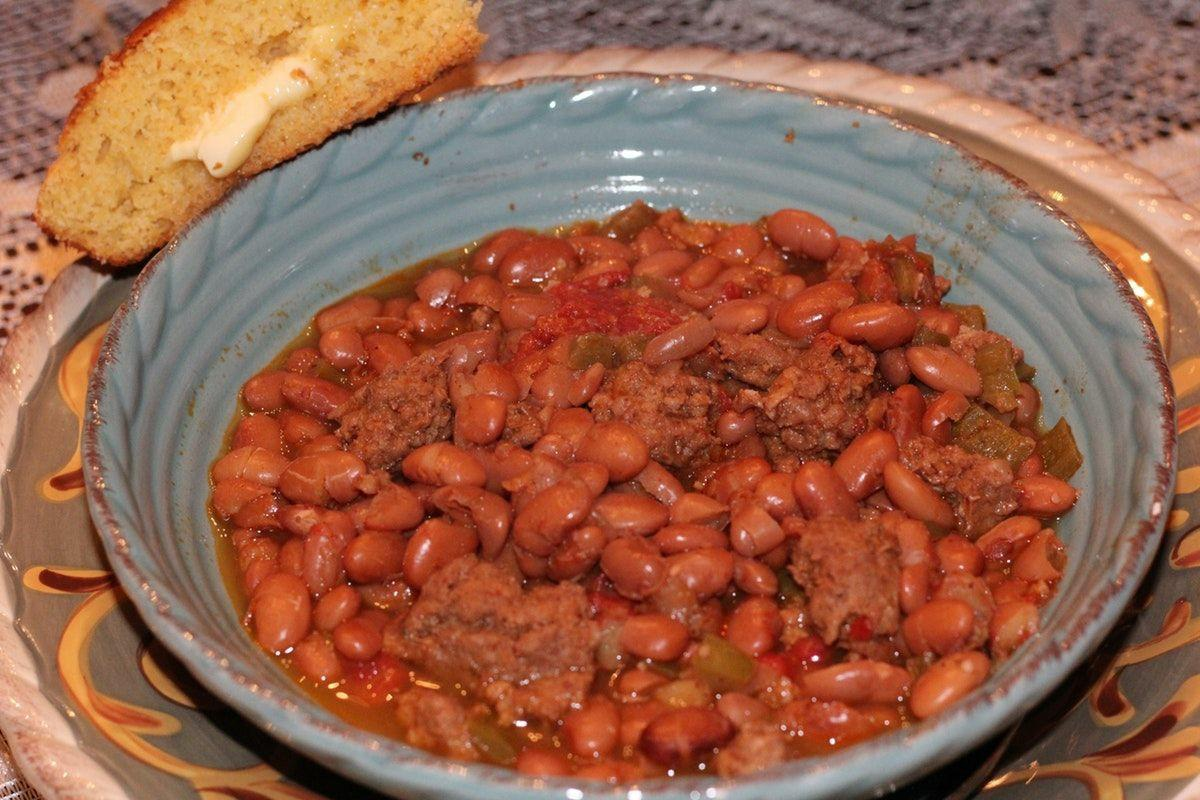RajmaCurry: (213, 200, 1080, 768)
